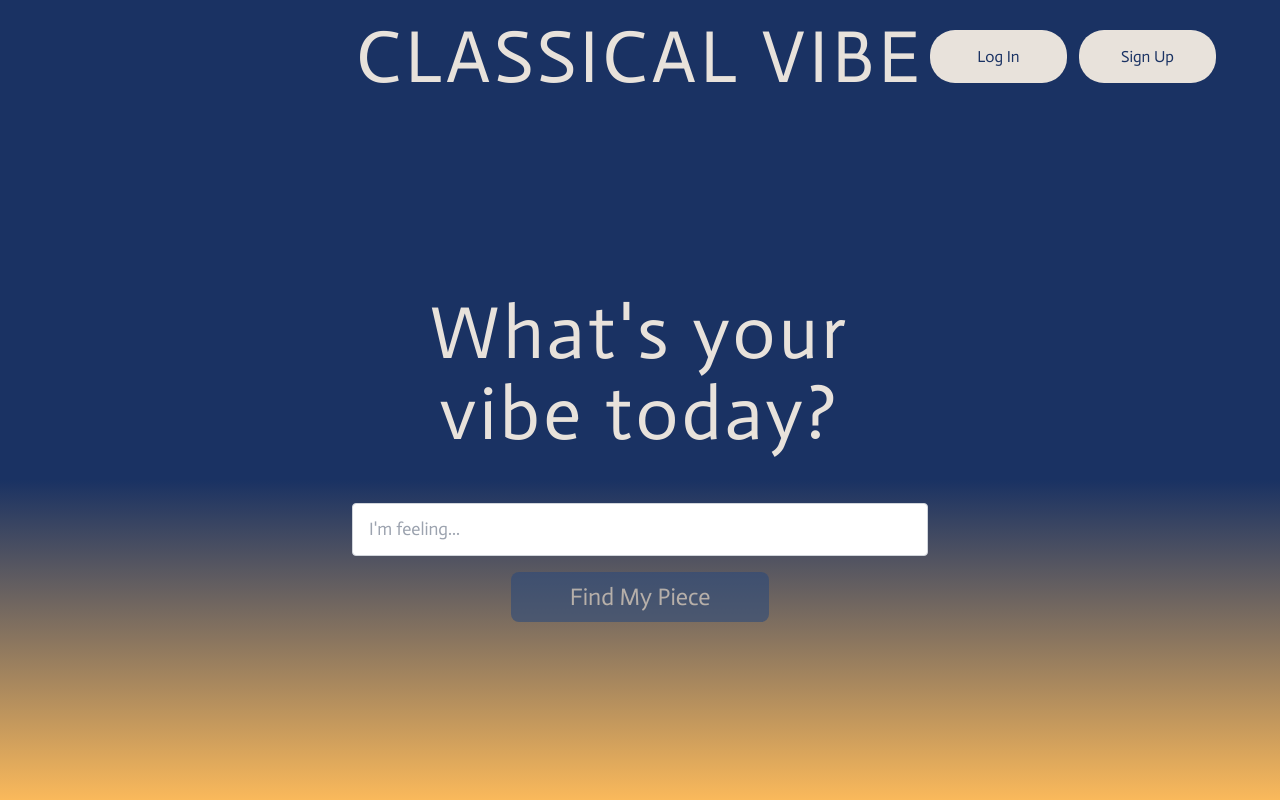
Test: LandingPage Component › enables button when input has value
This screenshot has width=1280, height=800.
Step 1. Type "happy" into the field with placeholder "I'm feeling..." → (640, 529), box x1=352 y1=503 x2=928 y2=556
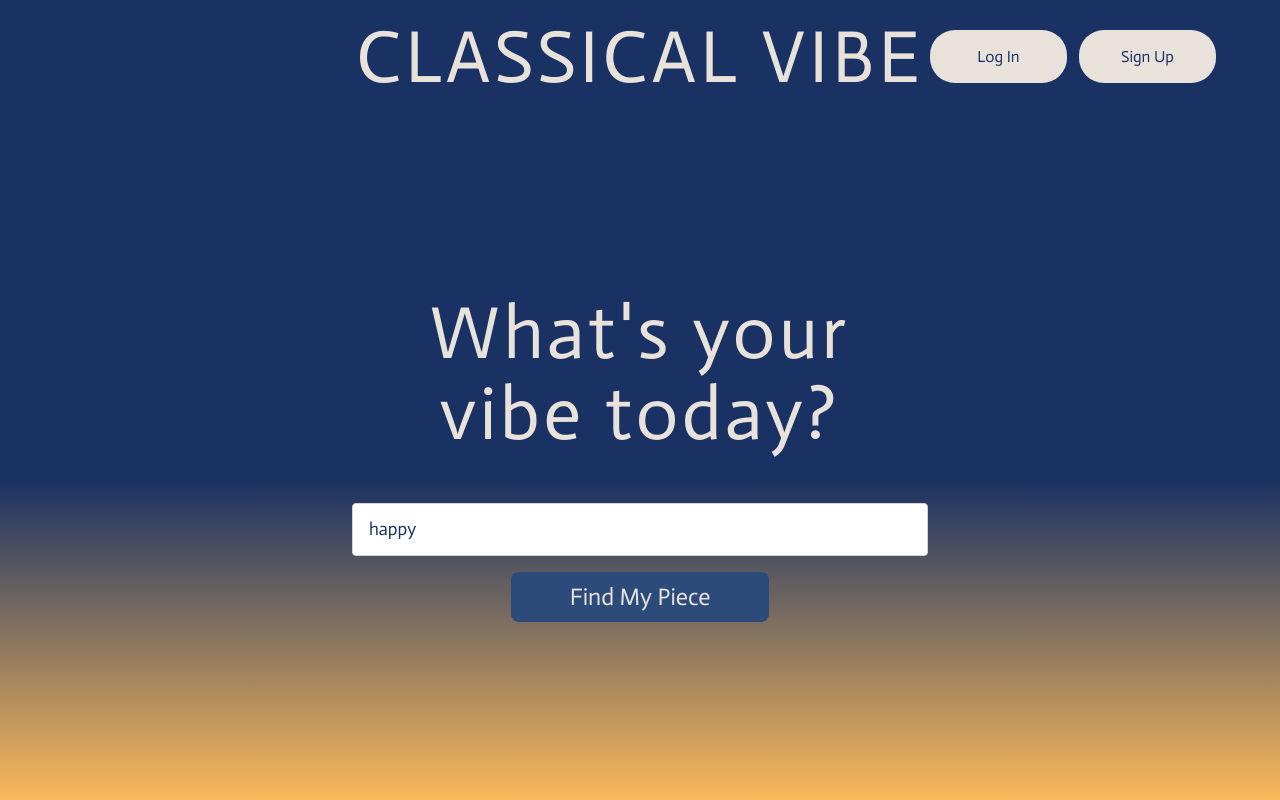
expect the button "Find My Piece" is enabled: met, box x1=511 y1=572 x2=769 y2=622
